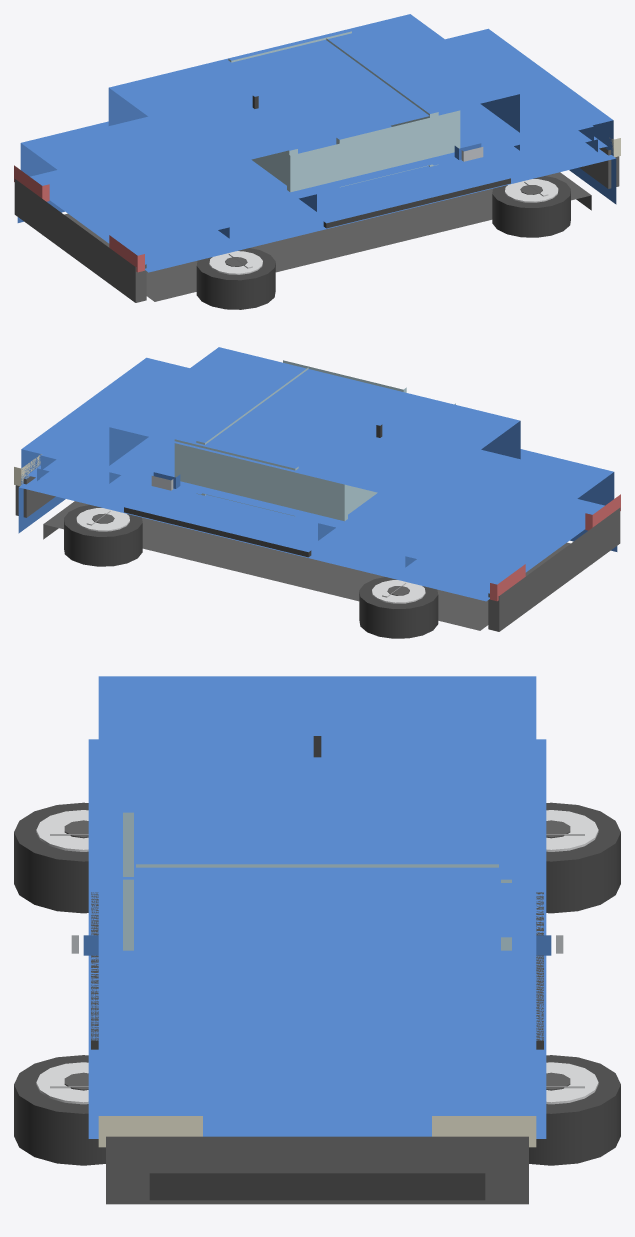
File: car_blue.glb
3 views of the same model, one above another, from view 1: azimuth 30°, elevation 25°; view 2: azimuth 150°, elevation 25°; view 3: azimuth 270°, elevation 25° (orthographic). The views are drawn at different scales.
Bounding box in the file's own units: 3.94 × 1.13 × 2.44.
